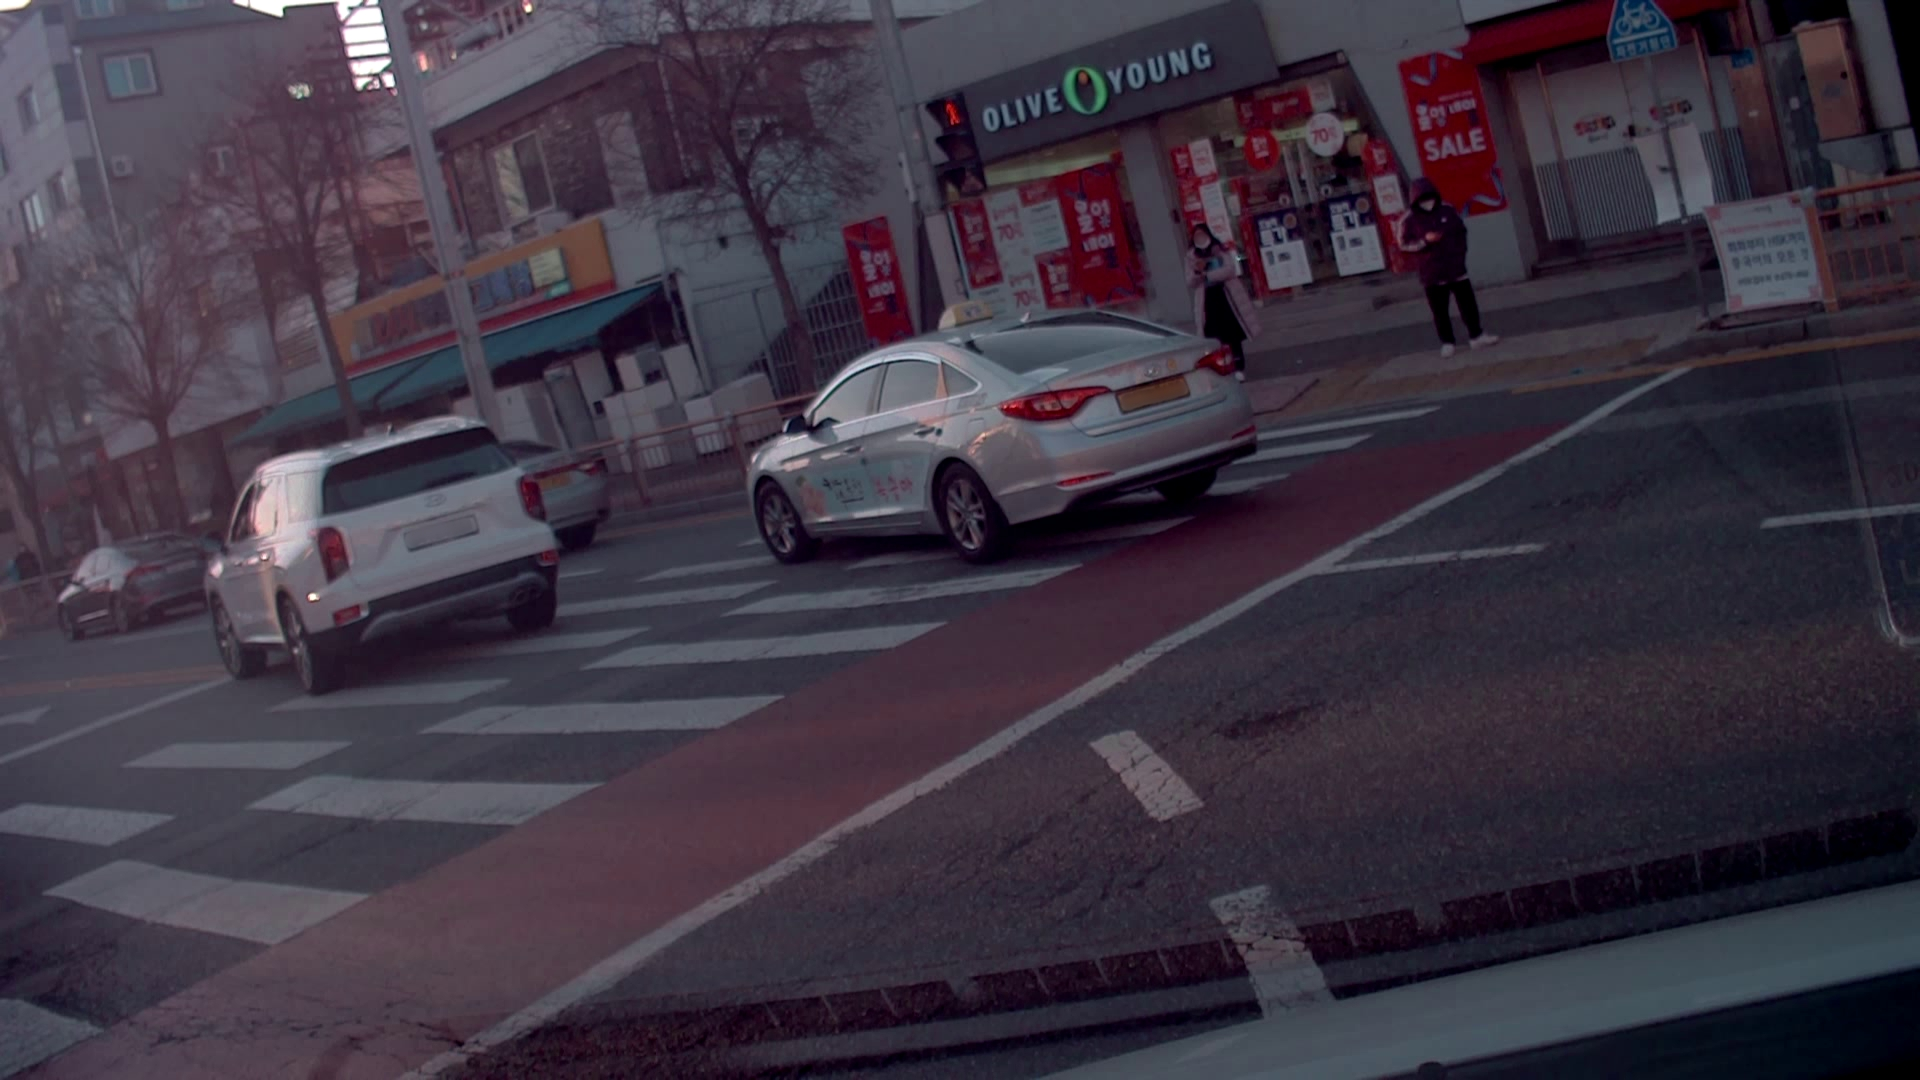trafficLightBar: (924, 84, 992, 204)
trafficSignTri: (1606, 1, 1681, 71)
